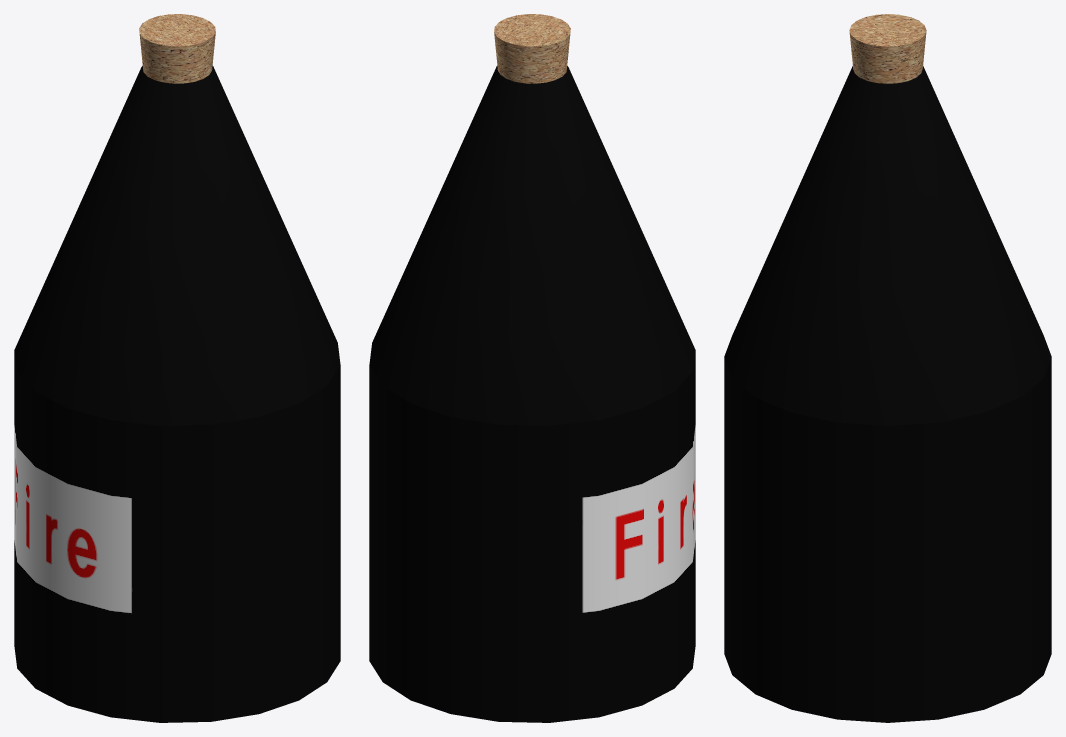
Rendered from Kaennbin.fbx.
The picture shows the model from 3 angles, left to right: view 1: azimuth 30°, elevation 25°; view 2: azimuth 150°, elevation 25°; view 3: azimuth 270°, elevation 25°; orthographic projection.
Parts seen in each view (by area): view 1: pCylinder2, pCylinder1; view 2: pCylinder2, pCylinder1; view 3: pCylinder2, pCylinder1.
Part boxes in pixels (bbox=[...]): pCylinder2: bbox=[14, 66, 340, 722]; pCylinder1: bbox=[139, 14, 215, 83]; pCylinder2: bbox=[369, 66, 695, 722]; pCylinder1: bbox=[494, 14, 570, 83]; pCylinder2: bbox=[724, 66, 1051, 722]; pCylinder1: bbox=[849, 14, 926, 83].
Bounding box in the file's own units: 10 × 21 × 10.
Materials: 2 (2 with a texture image).
